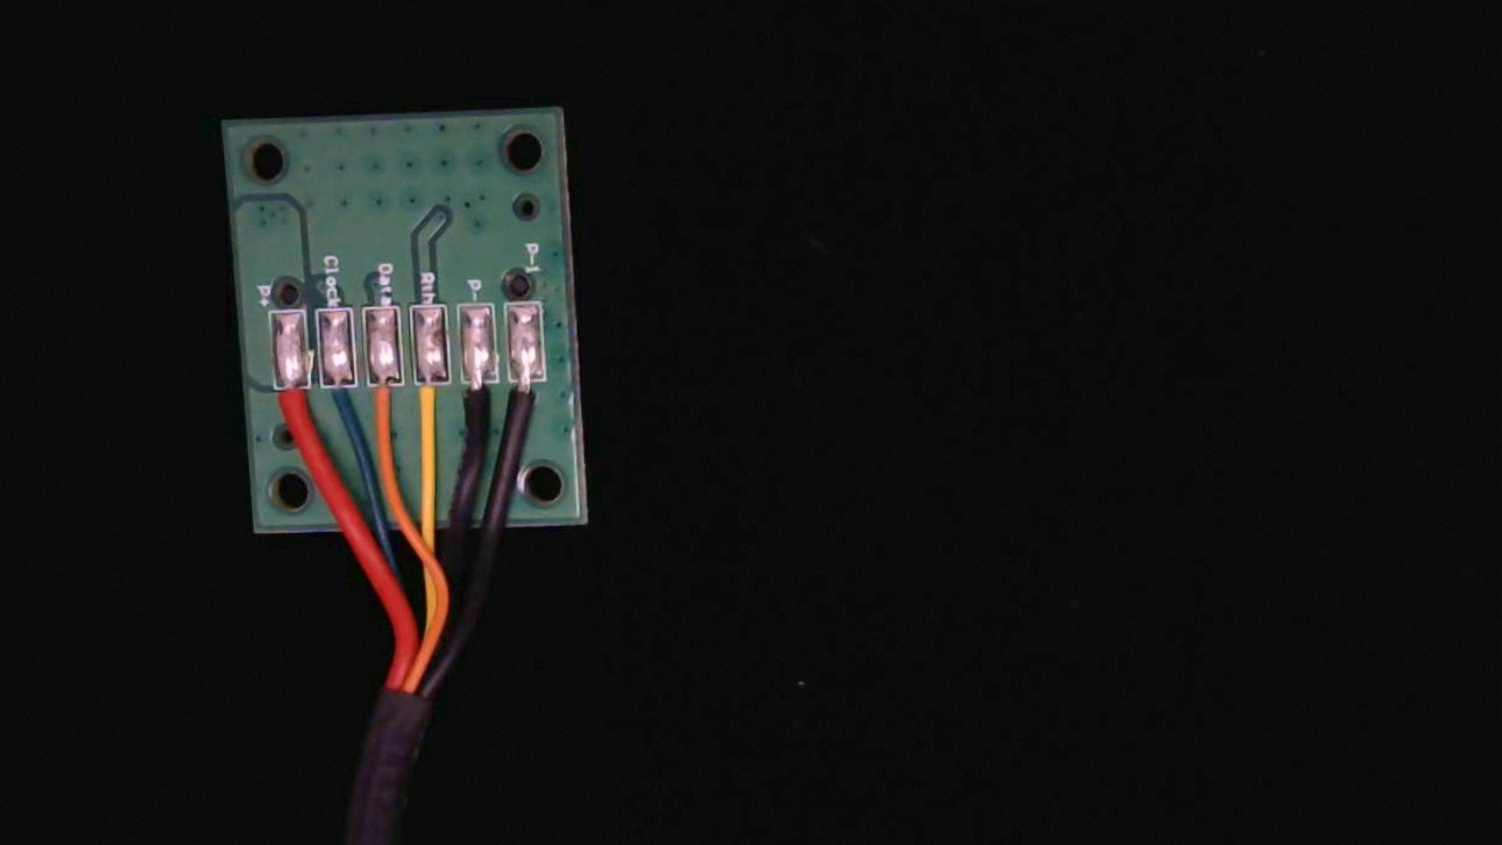Black: (458, 353, 501, 443)
Black1: (507, 354, 548, 436)
Green: (317, 360, 360, 447)
Orange: (365, 356, 405, 445)
Red: (270, 362, 313, 449)
Yellow: (406, 356, 450, 448)
